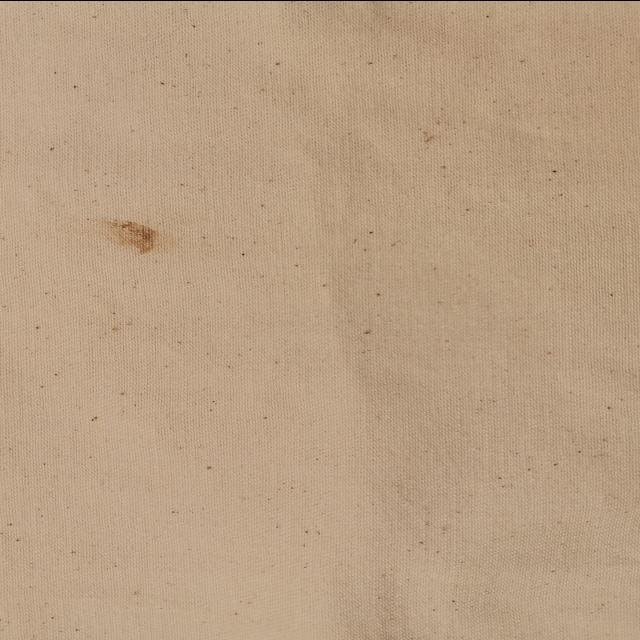taaaches: (82, 215, 166, 256)
